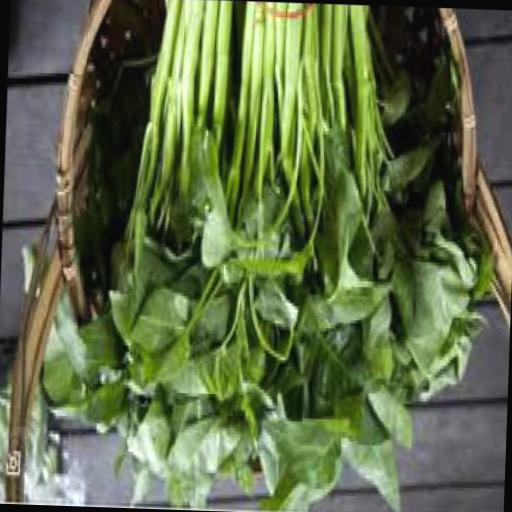biodegradable: (278, 3, 426, 512), (334, 6, 503, 414), (212, 2, 332, 511), (160, 0, 234, 508), (14, 201, 135, 447), (125, 0, 178, 493)
